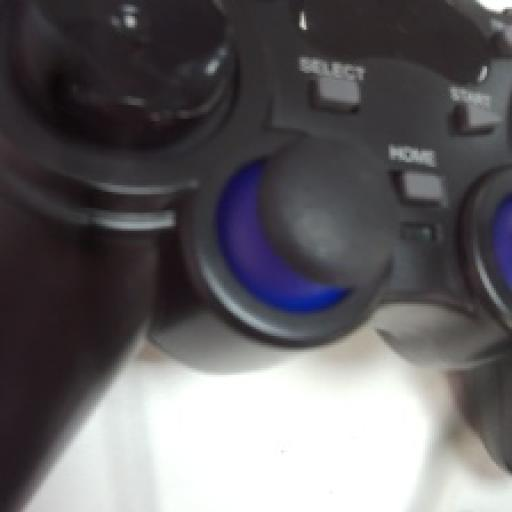game pad: (0, 0, 510, 510)
